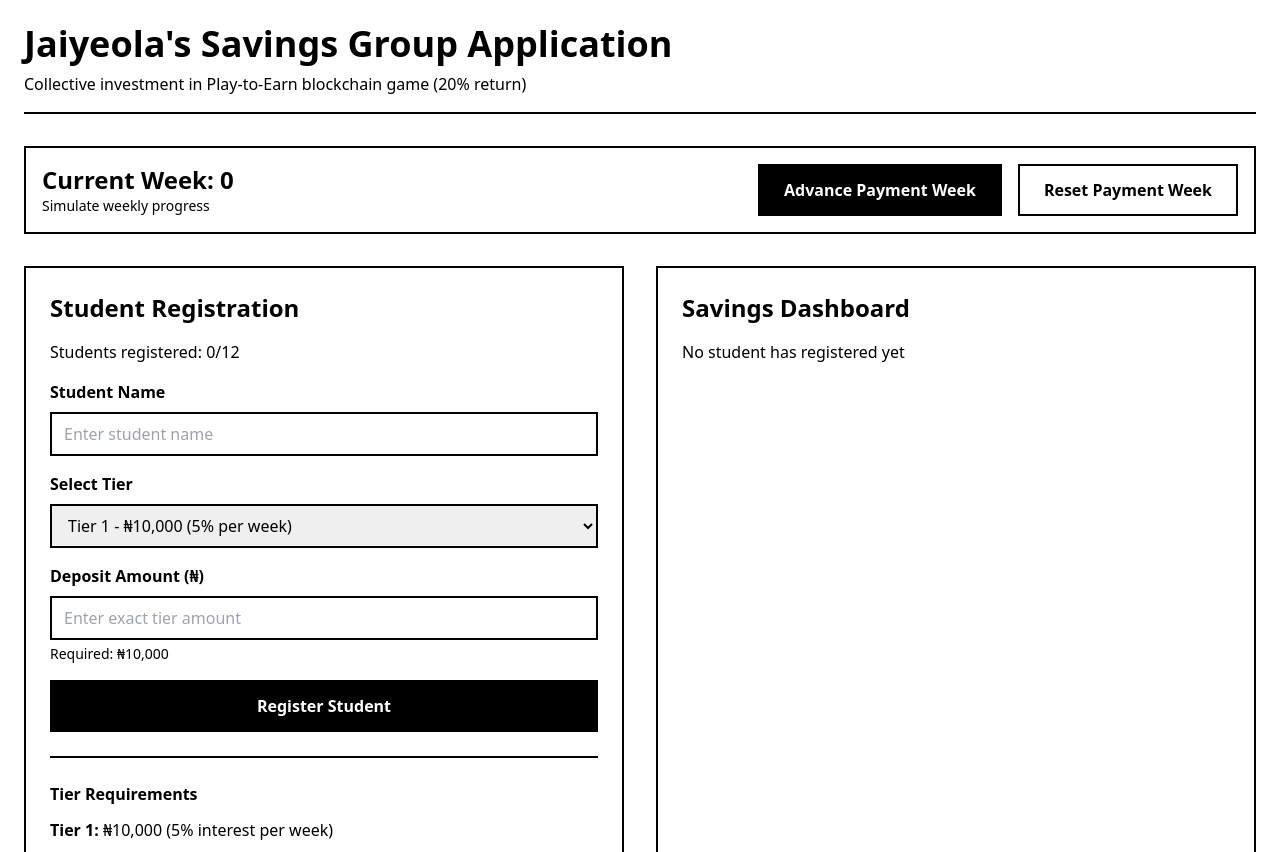
Scenario: Savings Group Application › validates tier amount on registration
The image size is (1280, 852).
Type "John Doe" into the field with placeholder "Enter student name" at [324, 434], box [50,412,598,456]
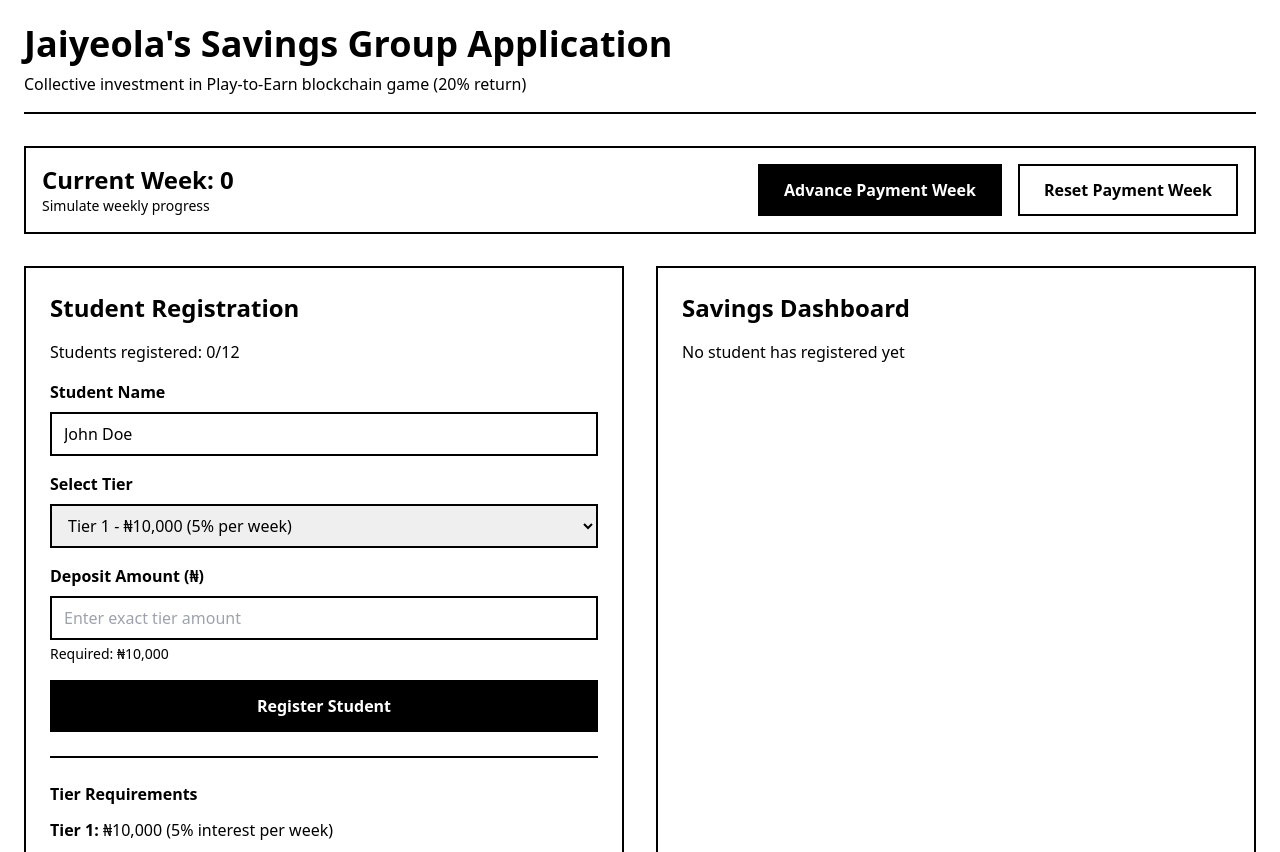
Type "5000" into the number field with placeholder "Enter exact tier amount" at [324, 618], box [50,596,598,640]
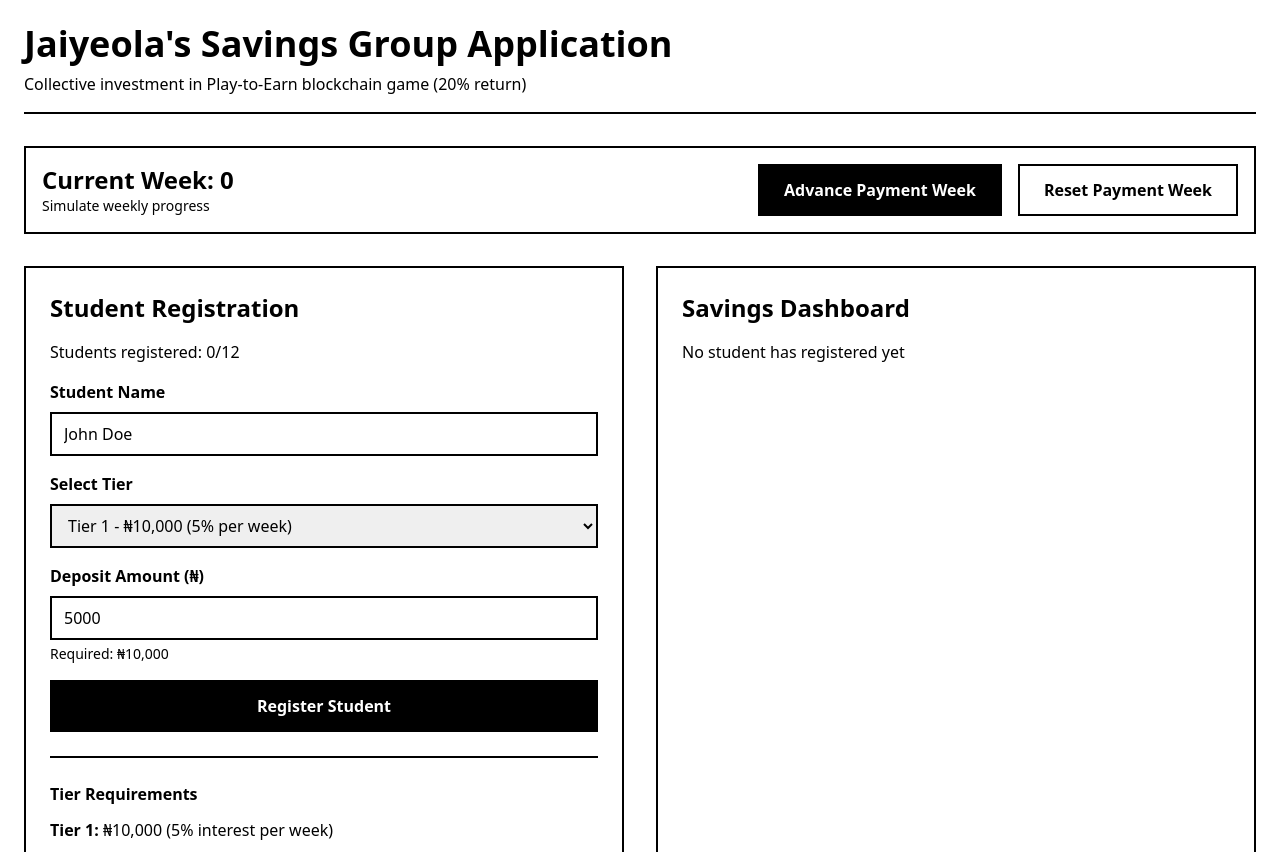
Click the button "Register Student" at [324, 706], box [50,680,598,732]
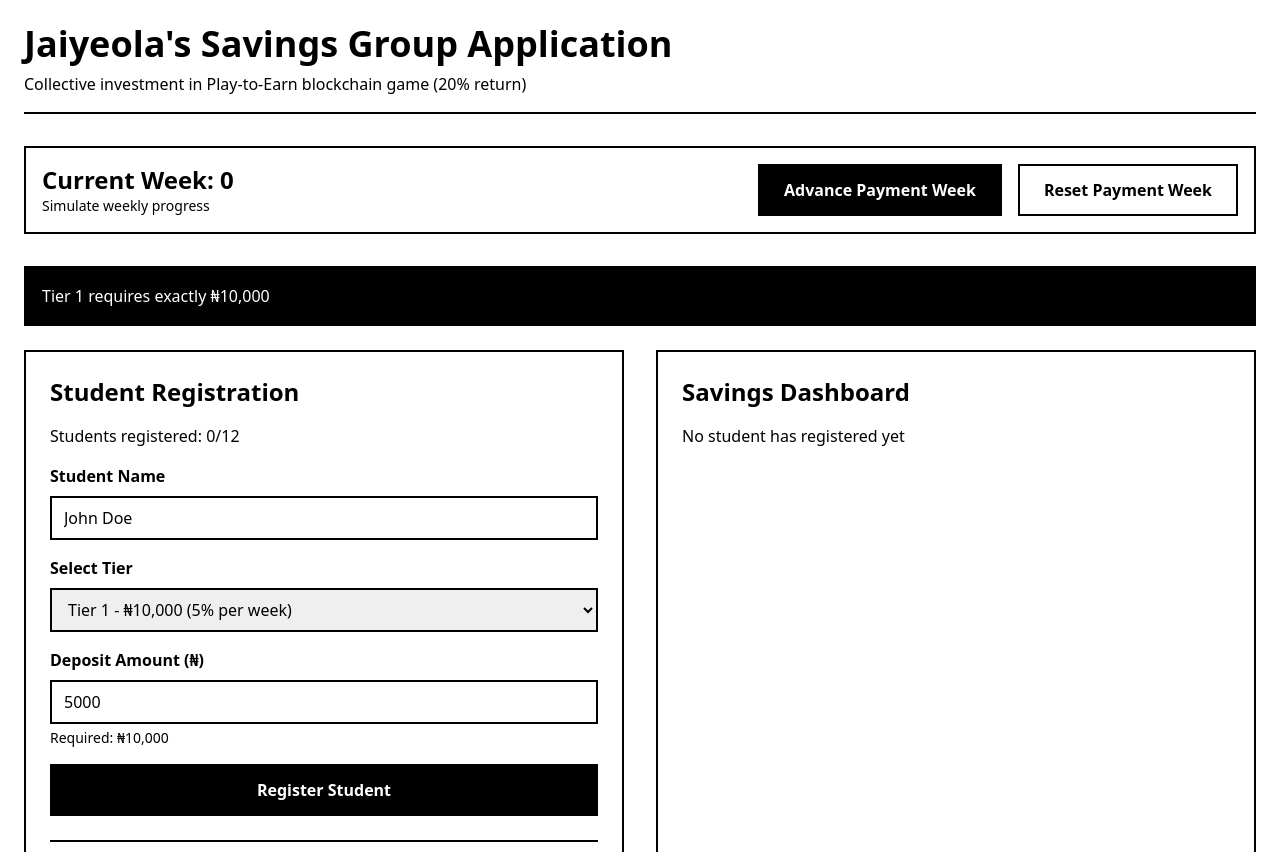
Expected: the text "Tier 1 requires exactly ₦10,000" is shown, [24,266,1256,326]
